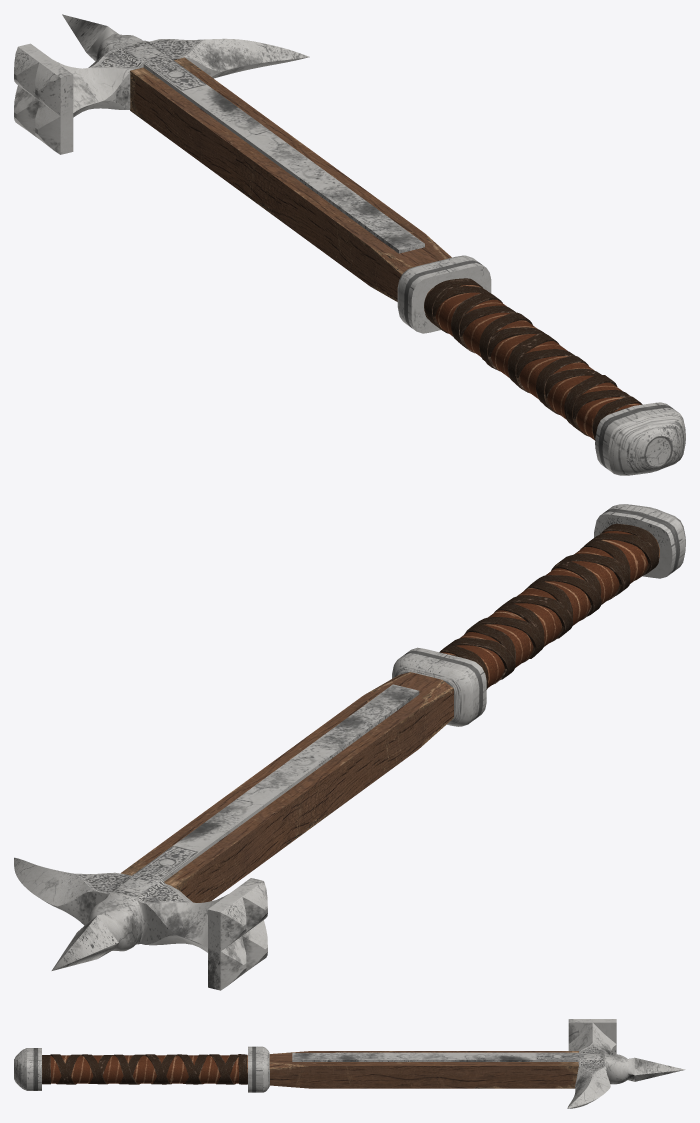
The model's file is hammer.glb.
3 views of the same model, one above another, from view 1: azimuth 30°, elevation 25°; view 2: azimuth 150°, elevation 25°; view 3: azimuth 270°, elevation 25° (orthographic). The views are drawn at different scales.
Visible parts, largest first — view 1: WoodPole001_08 - Default_0; view 2: WoodPole001_08 - Default_0; view 3: WoodPole001_08 - Default_0.
Part boxes in pixels (<box>): WoodPole001_08 - Default_0: <box>14,14,685,475</box>; WoodPole001_08 - Default_0: <box>14,504,685,990</box>; WoodPole001_08 - Default_0: <box>14,1019,685,1108</box>.
Bounding box in the file's own units: 85.93 × 24.24 × 341.
1 material, 1 textured.
